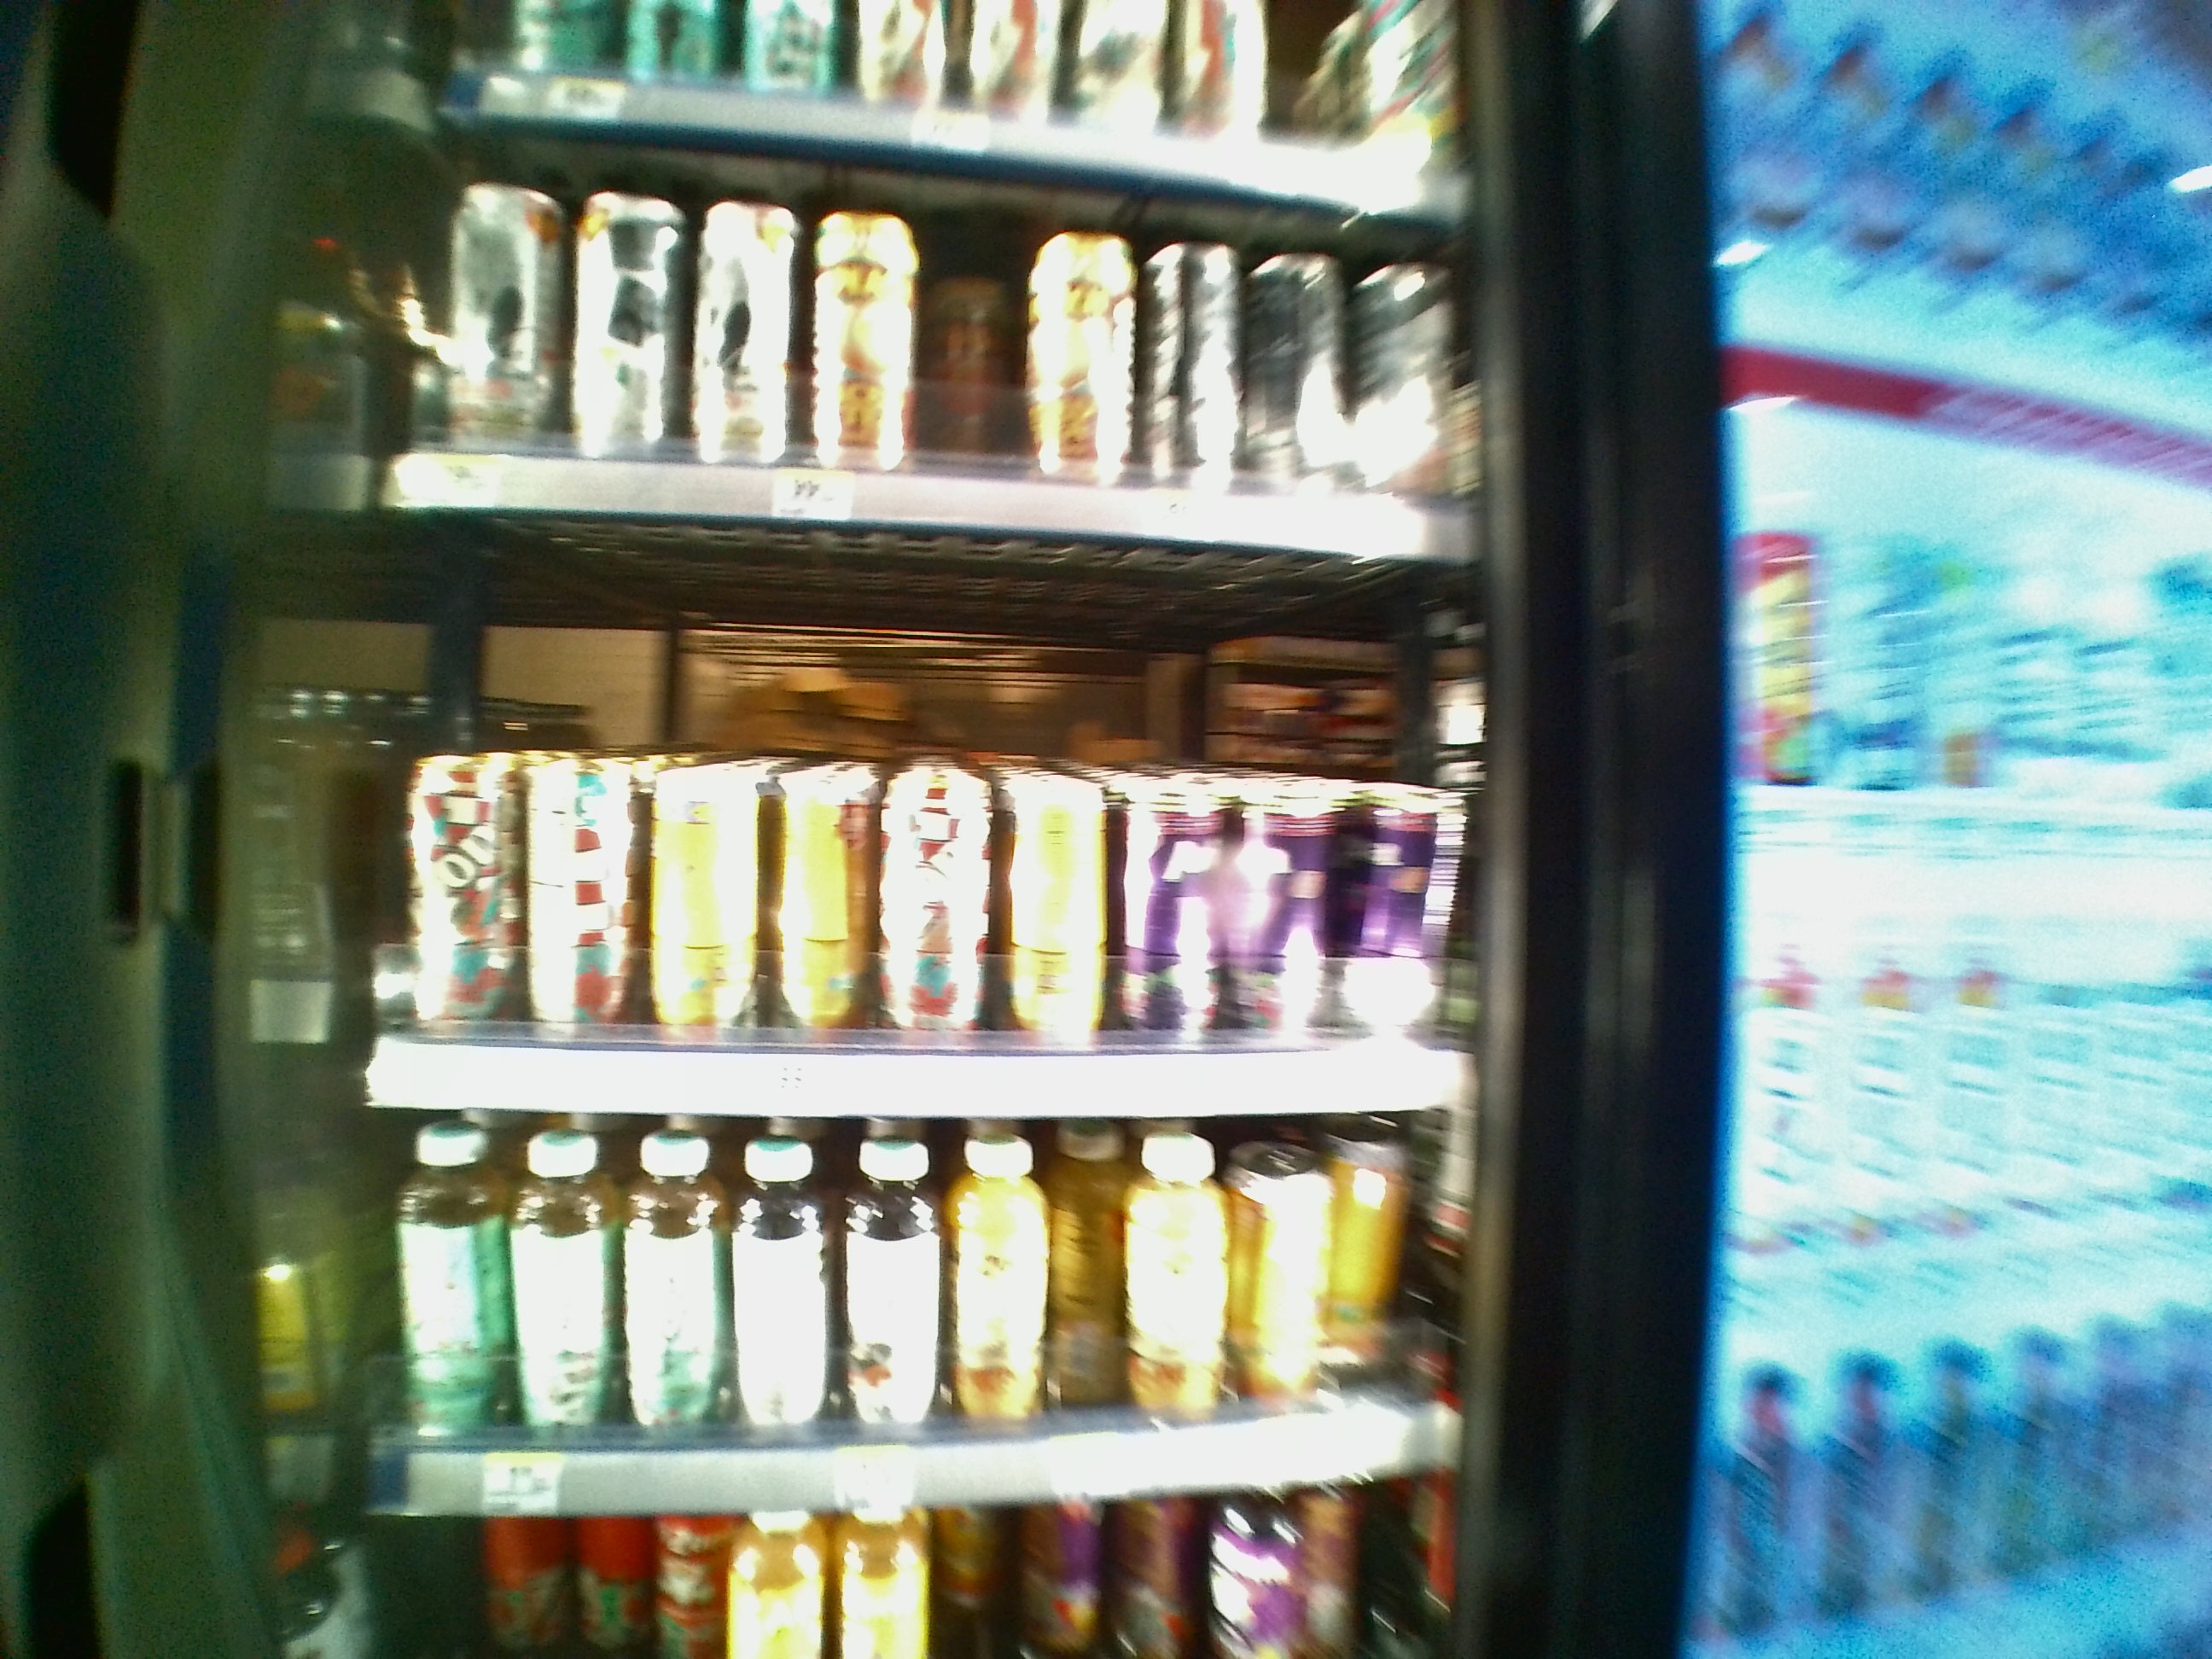shelf: (366, 521, 1484, 1110), (374, 1121, 1470, 1514)
